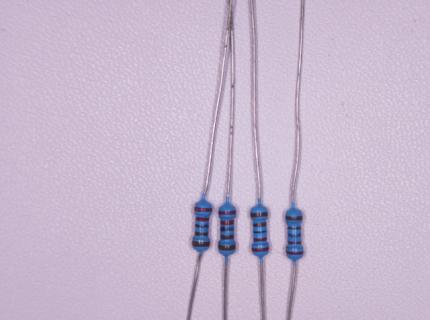Black band: (195, 223, 209, 228), (221, 227, 234, 232), (288, 233, 301, 238), (253, 230, 267, 234)
Brown band: (192, 240, 210, 248), (218, 245, 236, 252), (285, 215, 303, 221), (250, 212, 268, 218), (252, 222, 267, 228), (195, 231, 208, 237), (287, 225, 302, 230), (220, 235, 234, 240)
Red band: (194, 206, 212, 212), (218, 210, 236, 215), (286, 250, 304, 255), (252, 247, 269, 252), (195, 217, 209, 222), (220, 220, 234, 225), (253, 237, 267, 242), (287, 241, 302, 245)
